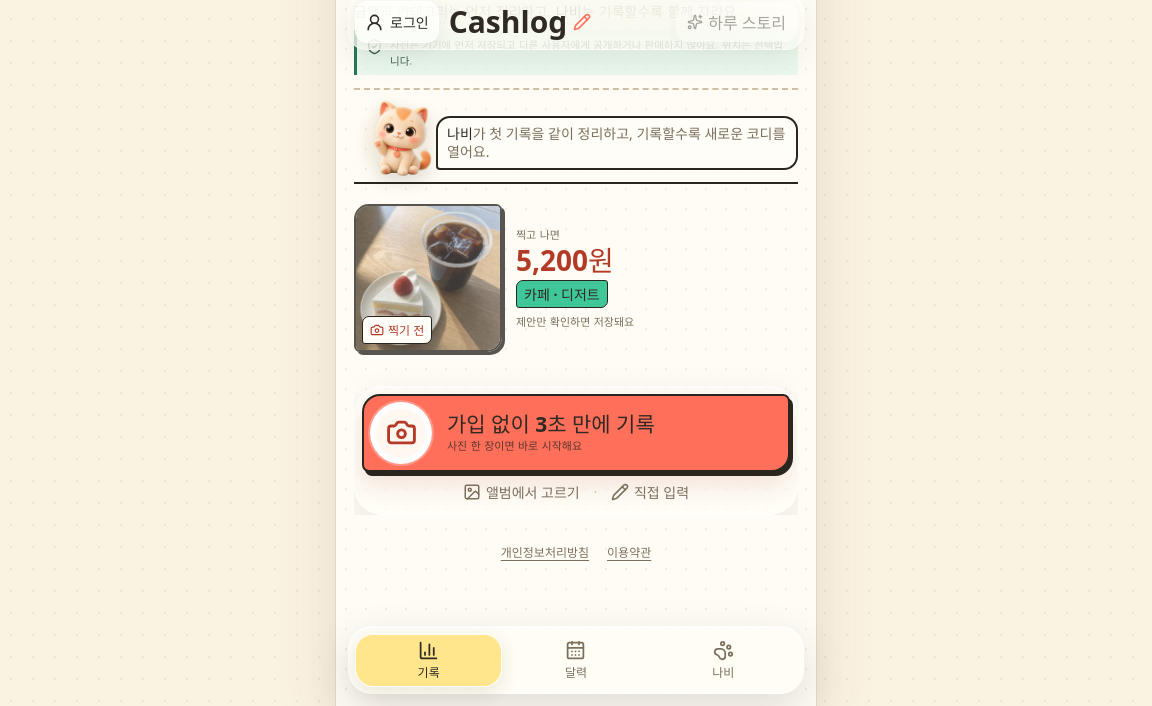
Test case: Cashlog photo MVP › keeps photo picking separate from the long expense form
This screenshot has width=1152, height=706.
(page scrolled)
Click the button with aria-label "가입 없이 3초 만에 사진으로 기록하기": {"x": 576, "y": 433} [362,394,790,472]
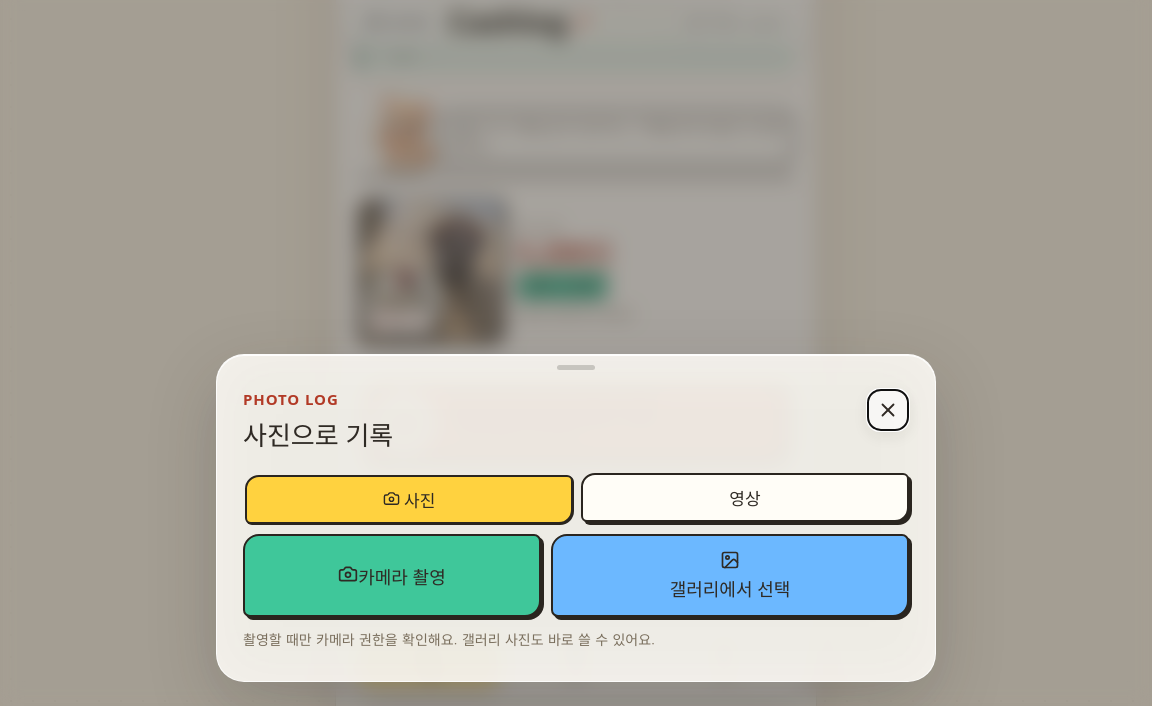
Now the heading "사진으로 기록" is shown, box [243,417,393,453]
Now the button "카메라 촬영" is shown, box [243,534,541,618]
Now the file field named "갤러리에서 미디어 선택" is shown, box [551,534,909,618]
